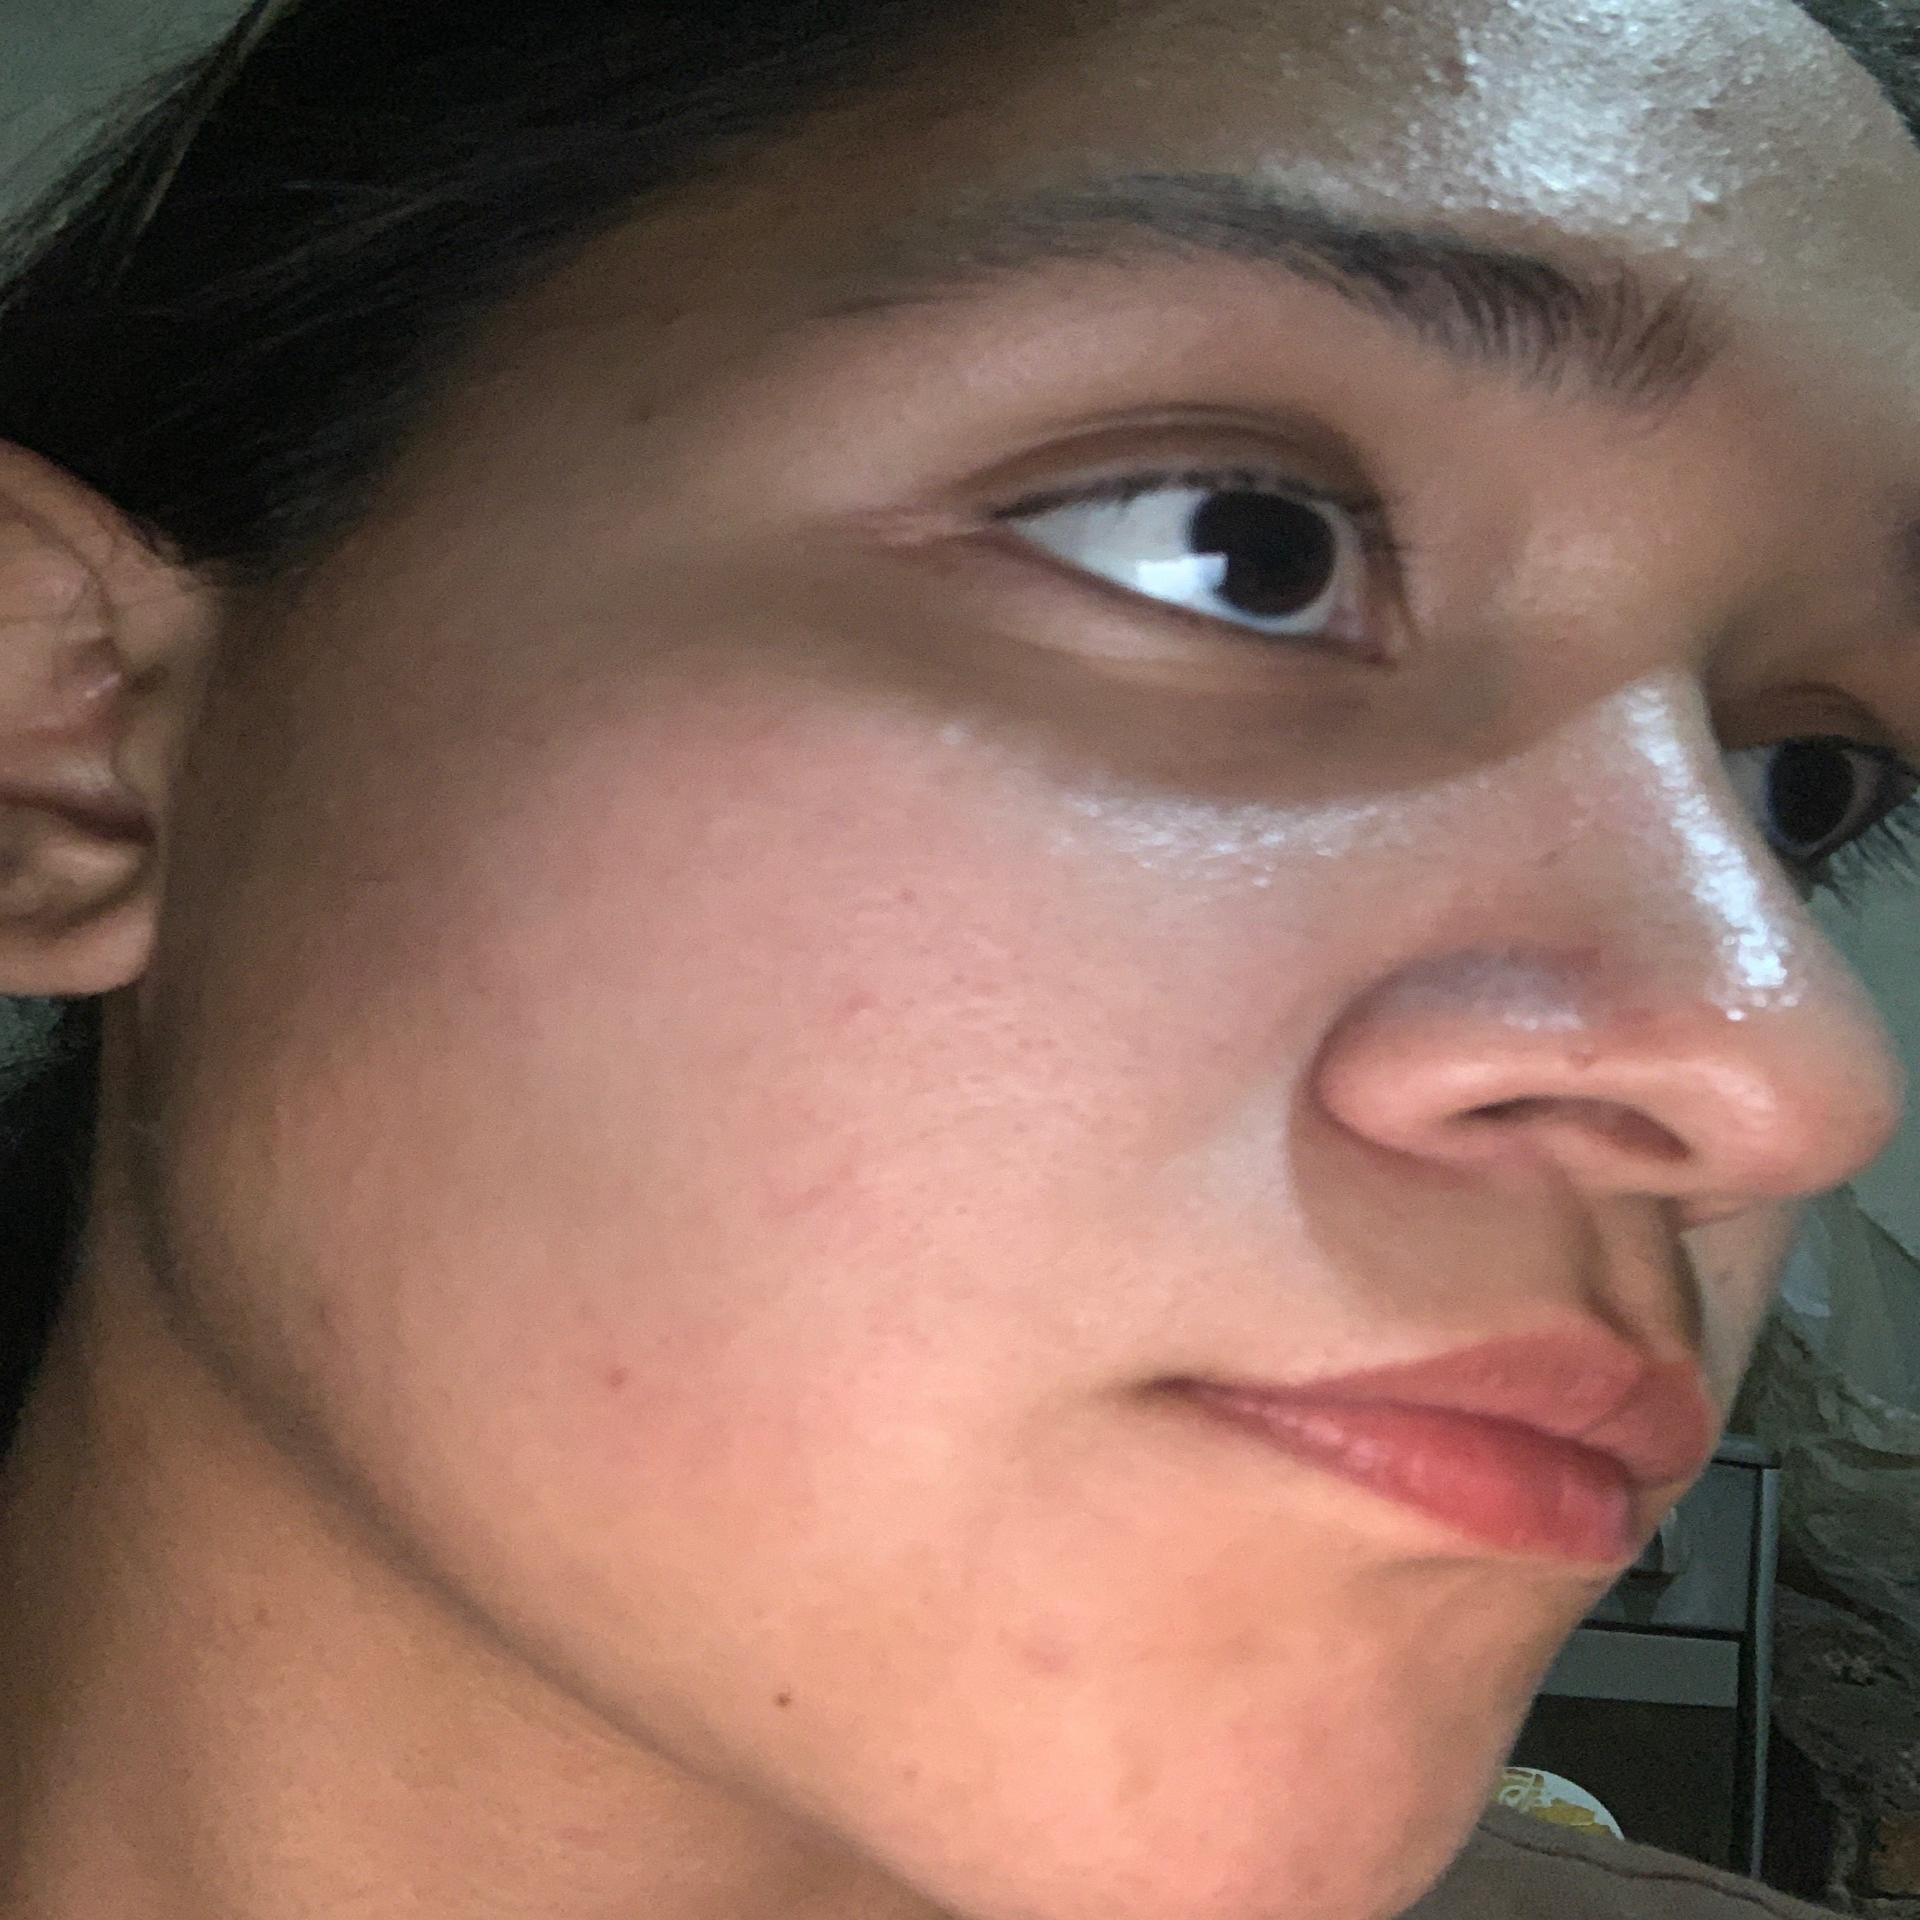Acne: (1090, 1760, 1190, 1841), (990, 1619, 1083, 1690), (1287, 1855, 1371, 1909), (1674, 165, 1748, 220), (1371, 1822, 1449, 1873), (1672, 95, 1749, 141), (301, 1301, 360, 1347), (1440, 51, 1496, 98), (647, 299, 714, 334), (1554, 1046, 1623, 1080), (883, 1746, 928, 1790), (1366, 0, 1410, 42), (612, 404, 663, 438), (587, 1359, 638, 1393), (1320, 19, 1364, 47)
Englarged Pores: (870, 944, 1182, 1271)
